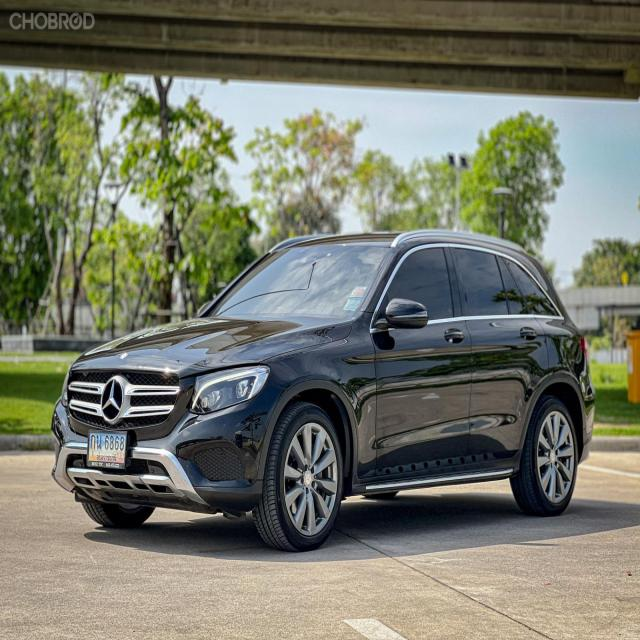license_plate: (87, 428, 130, 468)
